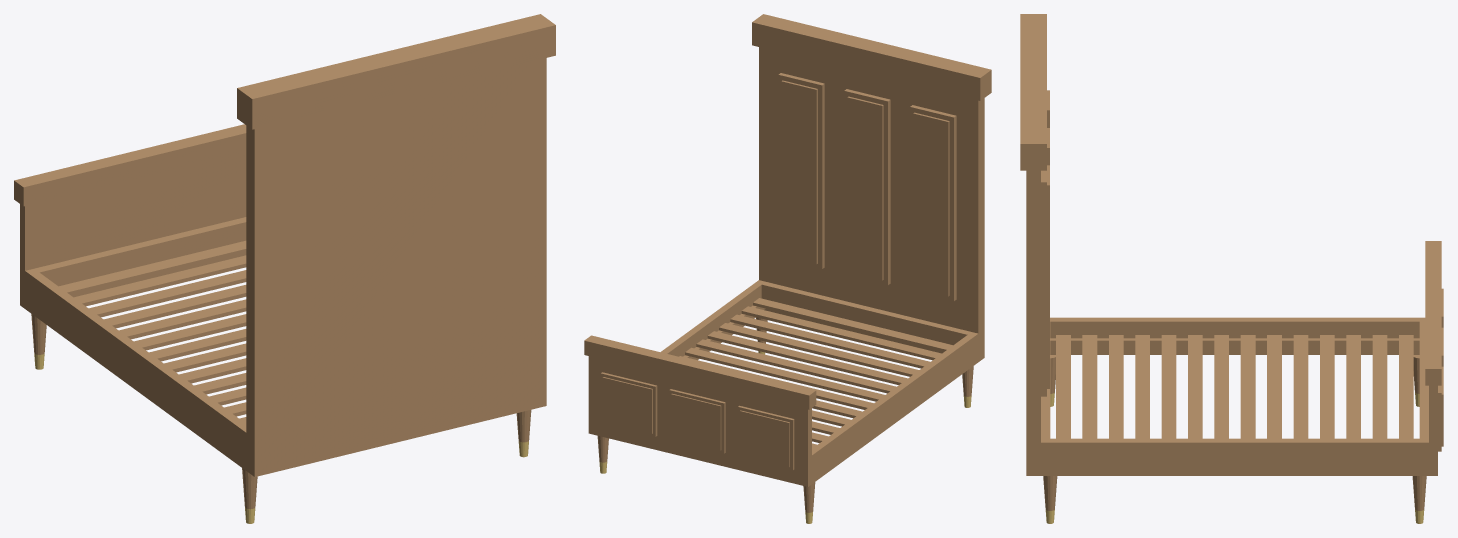
The picture shows the model from 3 angles, left to right: view 1: azimuth 30°, elevation 25°; view 2: azimuth 150°, elevation 25°; view 3: azimuth 270°, elevation 25°; orthographic projection. The views are drawn at different scales.
Parts seen in each view (by area): view 1: headboard, footboard, bed_frame_base, slat.013, slat.012, slat.011, slat.010, slat.009, slat.008, slat.007, slat.006, slat.005 (+2 smaller); view 2: headboard, footboard, bed_frame_base, slat.001, slat.004, slat.005, slat.006, slat.002, slat.003, slat, slat.007; view 3: bed_frame_base, headboard, footboard, slat.001, slat.004, slat.007, slat.009, slat.012, slat, slat.002, slat.003, slat.005 (+7 smaller).
Part boxes in pixels (x1,y1,x2,y2): headboard: [237, 14, 555, 476]; footboard: [14, 124, 246, 308]; bed_frame_base: [25, 217, 246, 470]; slat.013: [59, 240, 246, 295]; slat.012: [74, 255, 246, 306]; slat.011: [89, 270, 246, 317]; slat.010: [104, 285, 246, 328]; slat.009: [119, 299, 246, 339]; slat.008: [134, 314, 246, 350]; slat.007: [149, 329, 246, 361]; slat.006: [164, 343, 246, 372]; slat.005: [179, 358, 246, 383]; headboard: [752, 14, 991, 361]; footboard: [584, 335, 816, 486]; bed_frame_base: [660, 280, 978, 483]; slat.001: [741, 306, 941, 360]; slat.004: [707, 331, 907, 384]; slat.005: [696, 339, 896, 393]; slat.006: [685, 347, 884, 401]; slat.002: [730, 314, 930, 368]; slat.003: [719, 323, 918, 376]; slat: [753, 298, 952, 351]; slat.007: [679, 356, 873, 409]; bed_frame_base: [1041, 317, 1428, 475]; headboard: [1020, 14, 1049, 475]; footboard: [1425, 241, 1443, 475]; slat.001: [1082, 335, 1097, 438]; slat.004: [1161, 335, 1176, 438]; slat.007: [1240, 335, 1255, 438]; slat.009: [1293, 335, 1308, 438]; slat.012: [1372, 335, 1387, 438]; slat: [1056, 335, 1070, 438]; slat.002: [1109, 335, 1123, 438]; slat.003: [1135, 335, 1149, 438]; slat.005: [1188, 335, 1202, 438].
Size of the model in its own units: 1.66 by 2.3 by 2.29.
